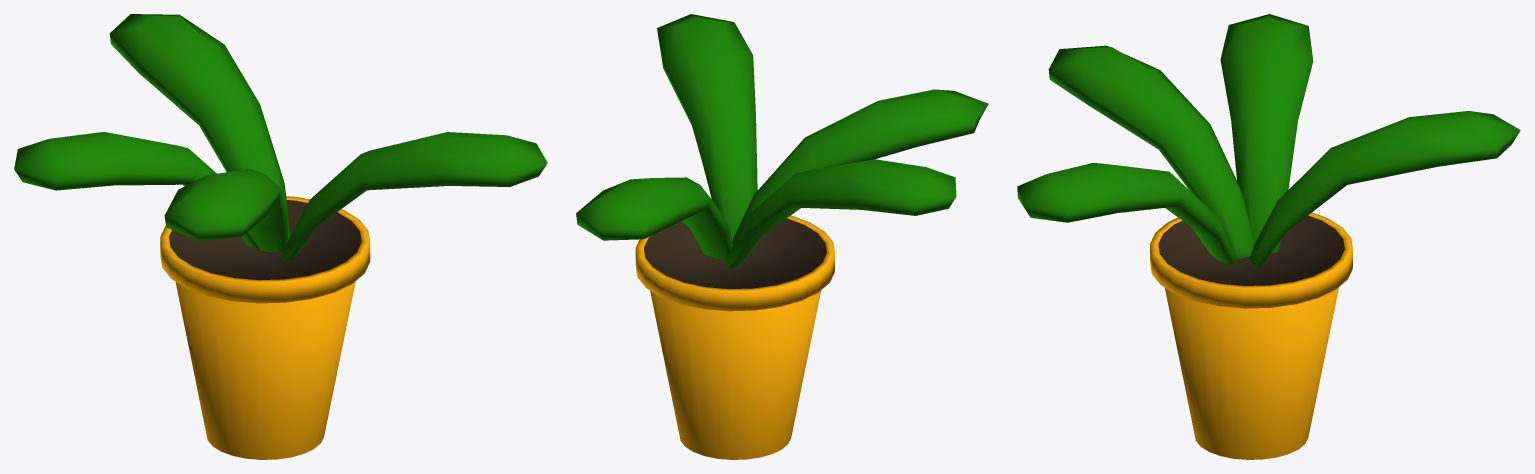
The model's file is flower.fbx.
3 renders of one model, left to right at view 1: azimuth 30°, elevation 25°; view 2: azimuth 150°, elevation 25°; view 3: azimuth 270°, elevation 25°, orthographic. The views are drawn at different scales.
Parts seen in each view (by area): view 1: flower; view 2: flower; view 3: flower.
Part boxes in pixels (x1=…): flower: x1=14, y1=14, x2=547, y2=459; flower: x1=576, y1=14, x2=988, y2=459; flower: x1=1017, y1=14, x2=1520, y2=459.
Bounding box in the file's own units: 33.72 × 25.53 × 36.3.
